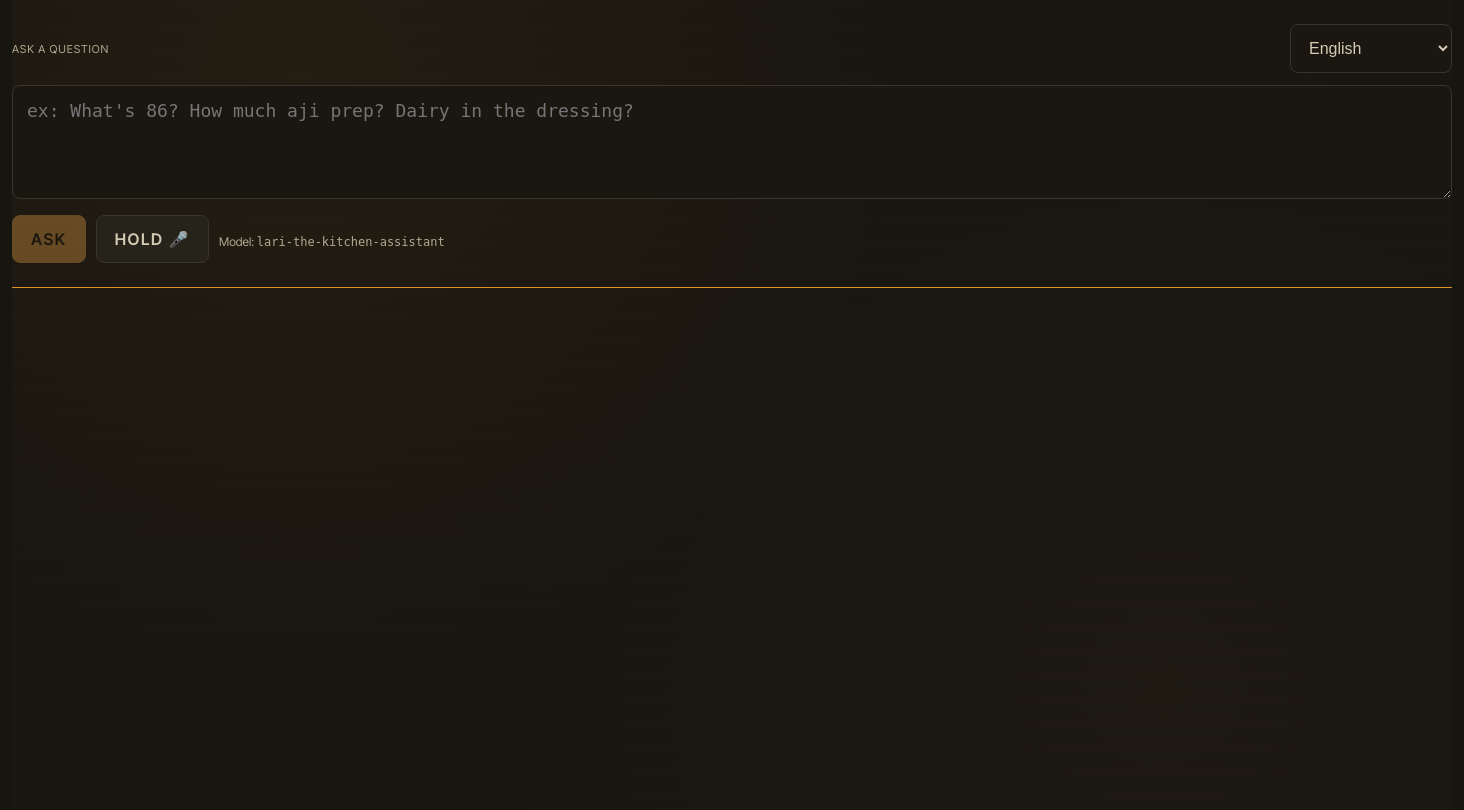
Test case: undo card clears on a new question
Type "86 the salmon" into the text box labelled "Ask a question" at (732, 142), box [12, 85, 1452, 199]
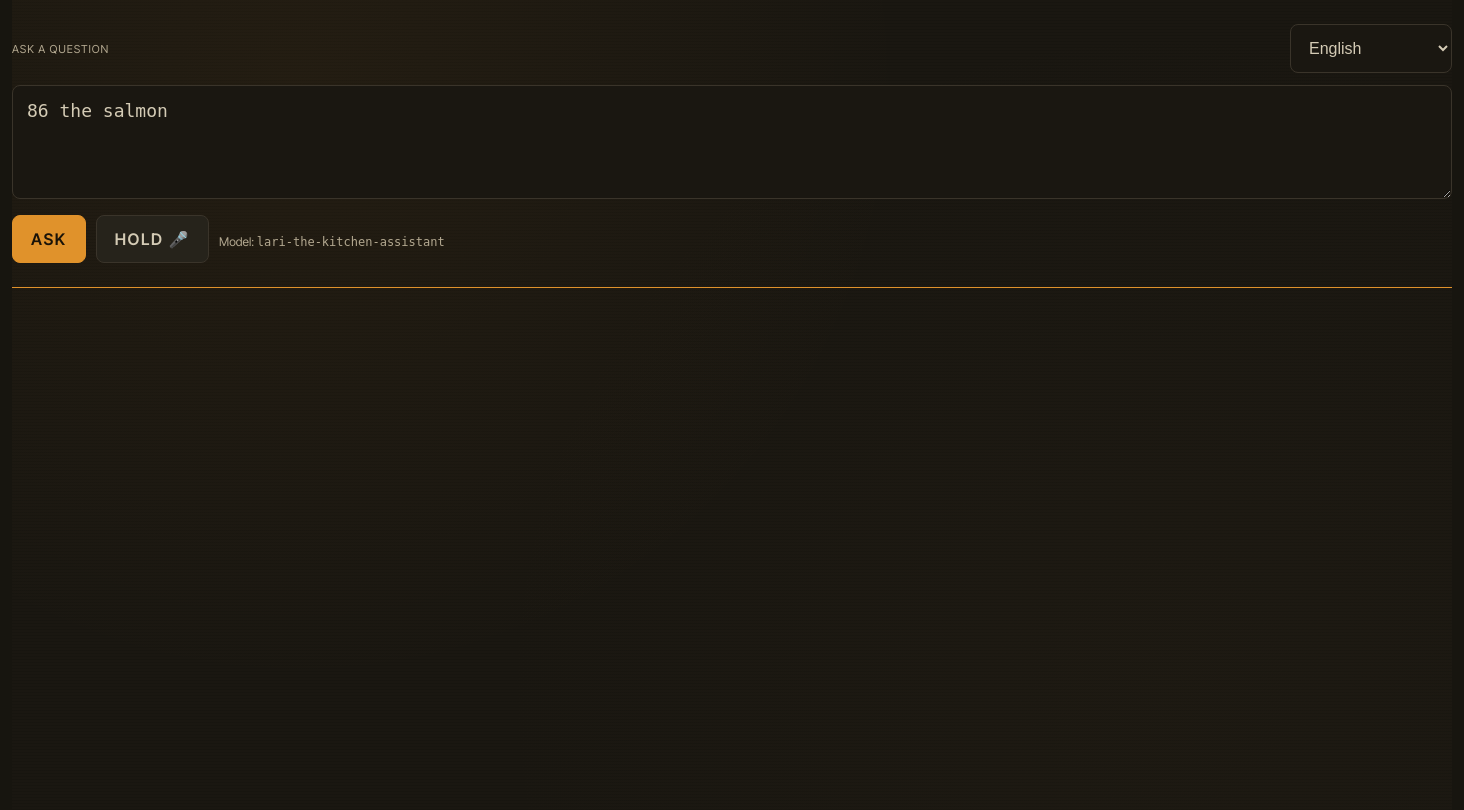
Click the button with aria-label "Ask kitchen assistant" at (49, 239), box [12, 215, 86, 263]
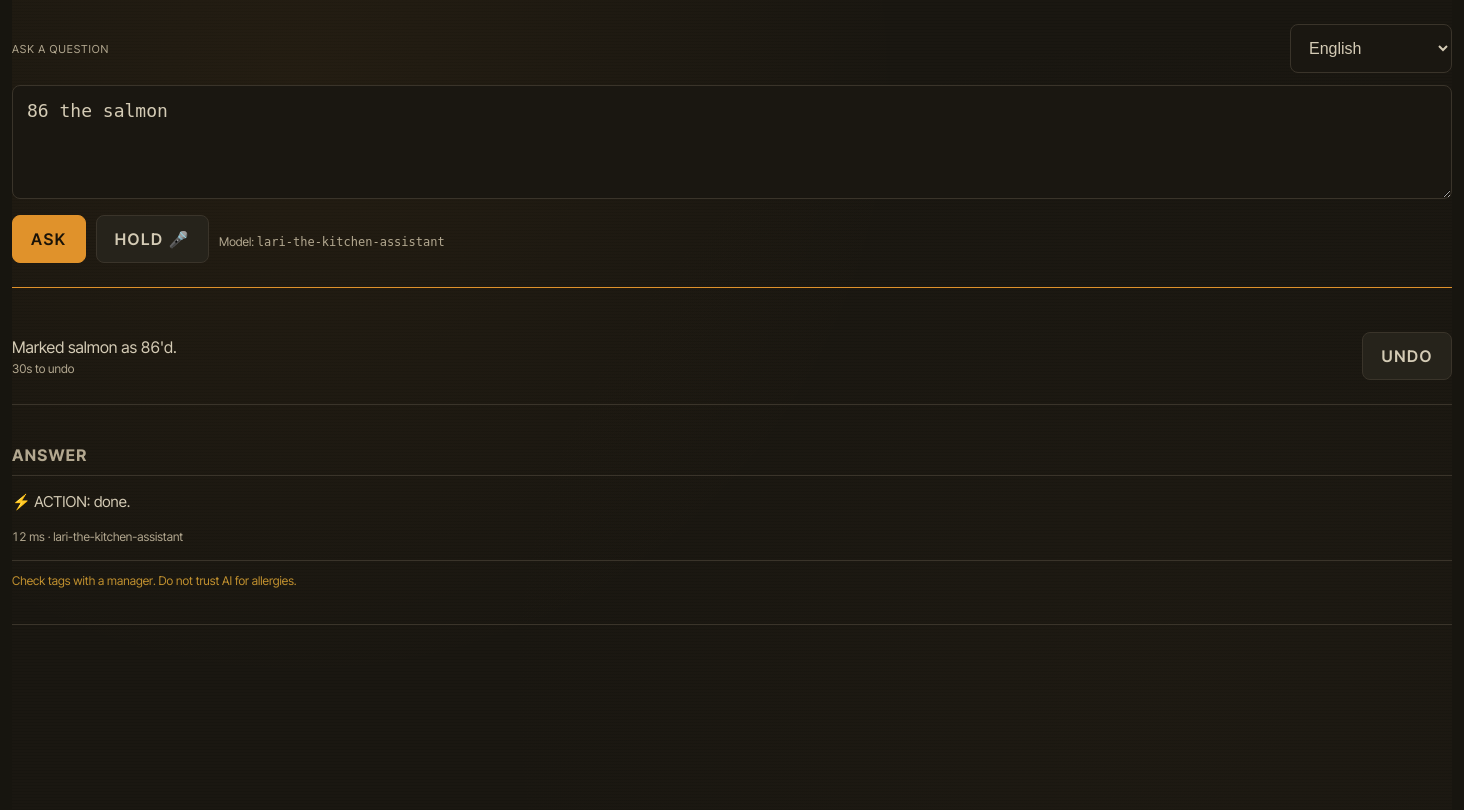
Expected: the button with aria-label "Undo last action" is shown, [1362, 332, 1452, 380]
Replace the text in the text box labelled "Ask a question" with "what's 86?" at (732, 142), box [12, 85, 1452, 199]
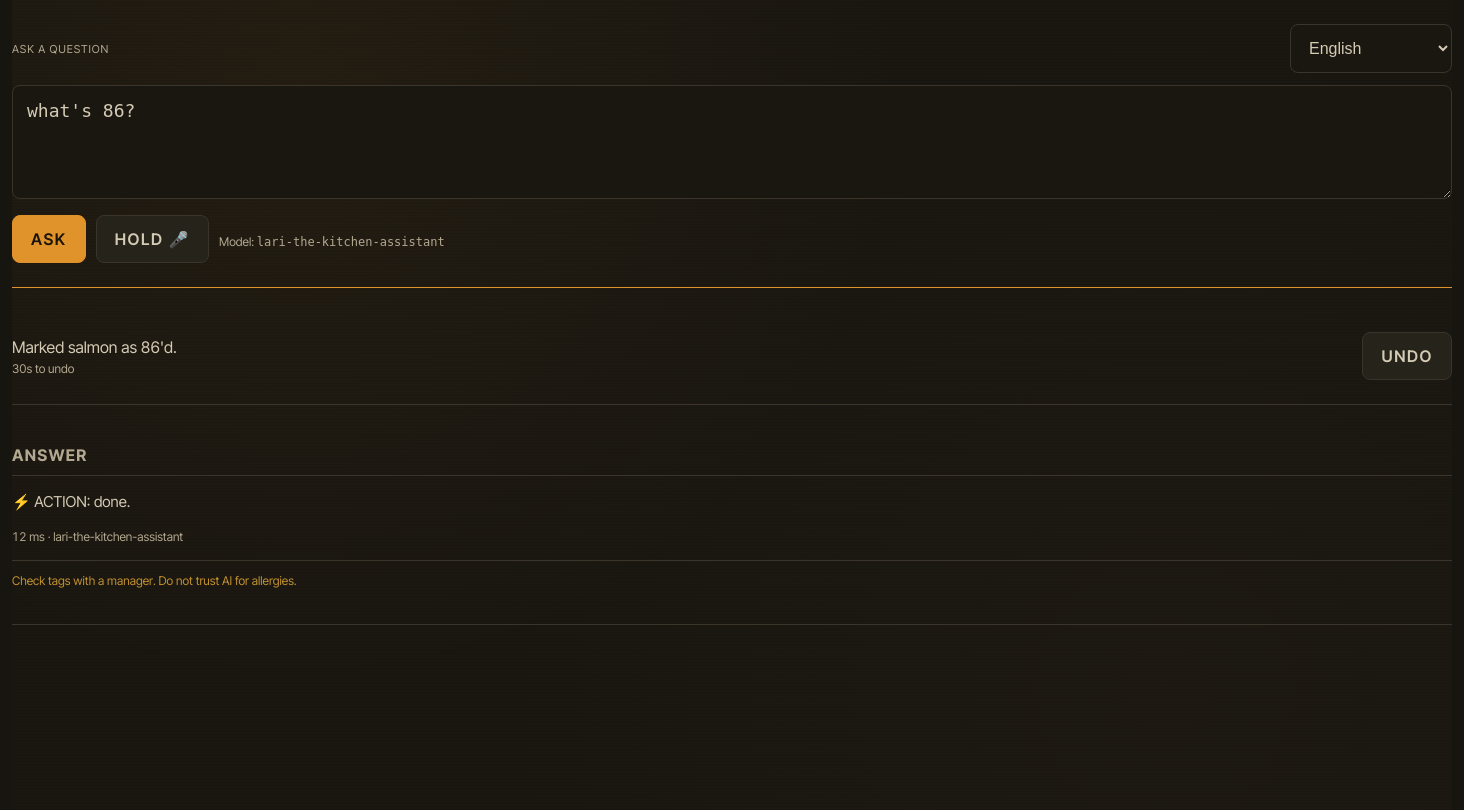
Click the button with aria-label "Ask kitchen assistant" at (49, 239), box [12, 215, 86, 263]
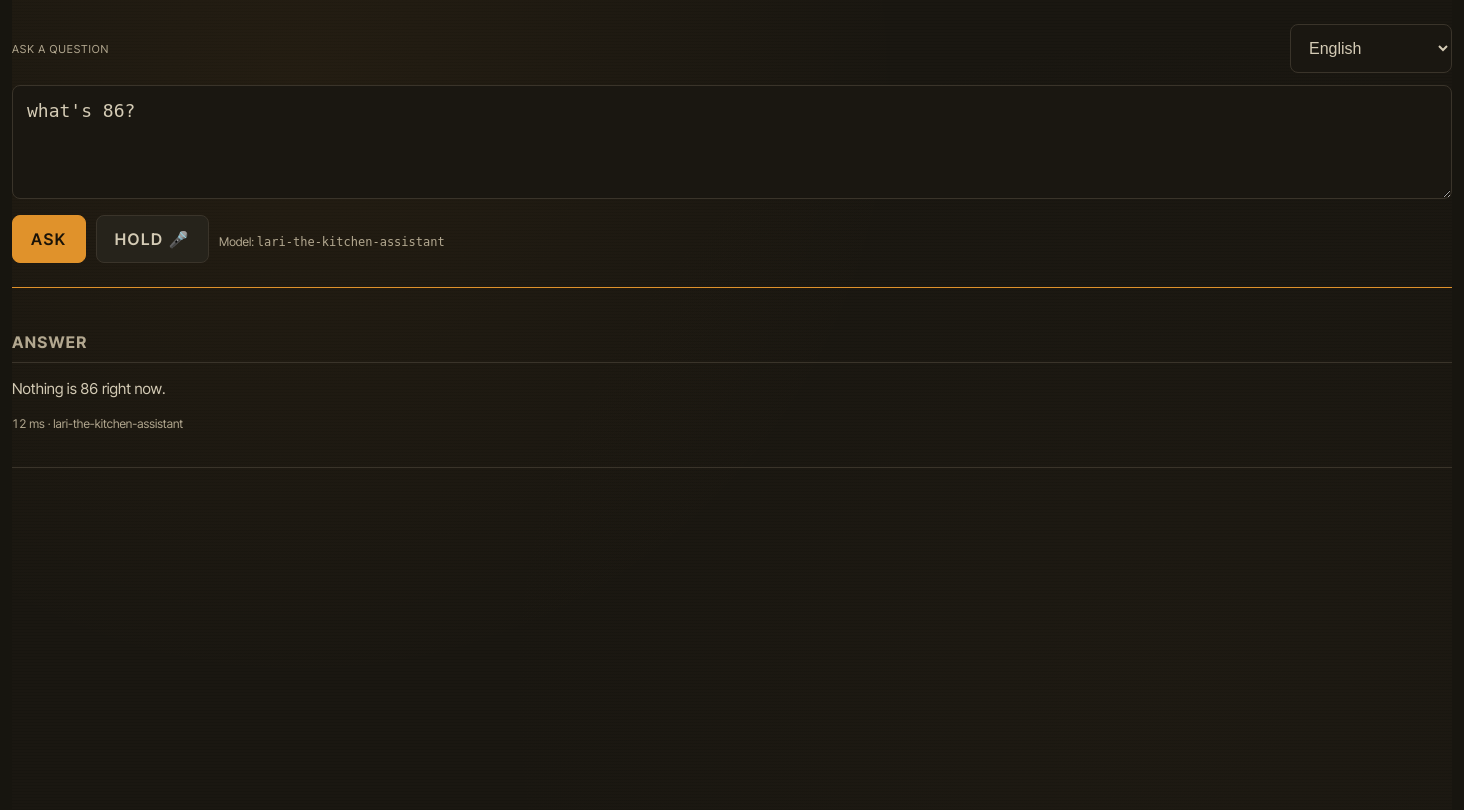
Expected: the text "Marked salmon as 86'd." is gone
